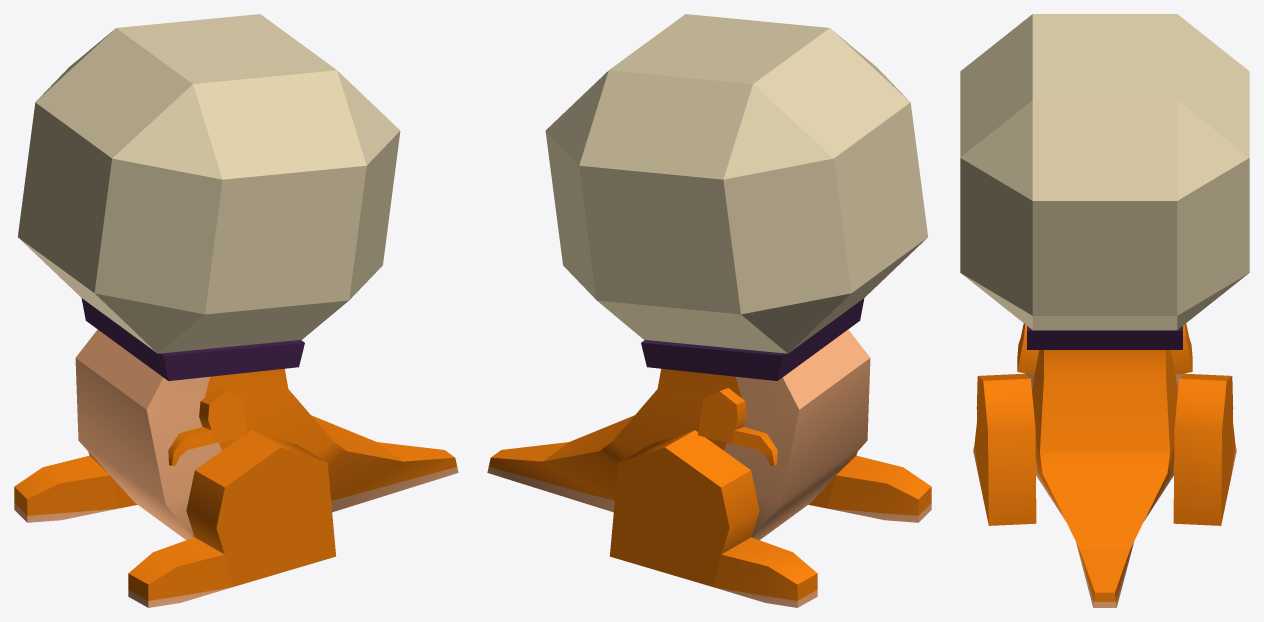
Rendered from Sniper Turret.fbx.
The picture shows the model from 3 angles, left to right: view 1: azimuth 30°, elevation 25°; view 2: azimuth 150°, elevation 25°; view 3: azimuth 270°, elevation 25°; orthographic projection. The views are drawn at different scales.
Visible parts, largest first — view 1: helmet, body, legs, arms; view 2: helmet, body, legs, arms; view 3: helmet, body, legs, arms.
Boxes of the visible parts, x1,y1,x2,y2 form: helmet: (18, 14, 400, 353); body: (75, 298, 458, 540); legs: (14, 430, 336, 607); arms: (168, 388, 248, 465); helmet: (545, 14, 927, 353); body: (487, 298, 870, 540); legs: (609, 430, 931, 607); arms: (697, 388, 777, 465); helmet: (960, 14, 1249, 330); body: (1024, 326, 1185, 607); legs: (973, 373, 1236, 525); arms: (1017, 323, 1192, 374).
Size of the model in its own units: 7.16 by 8.38 by 4.81.
